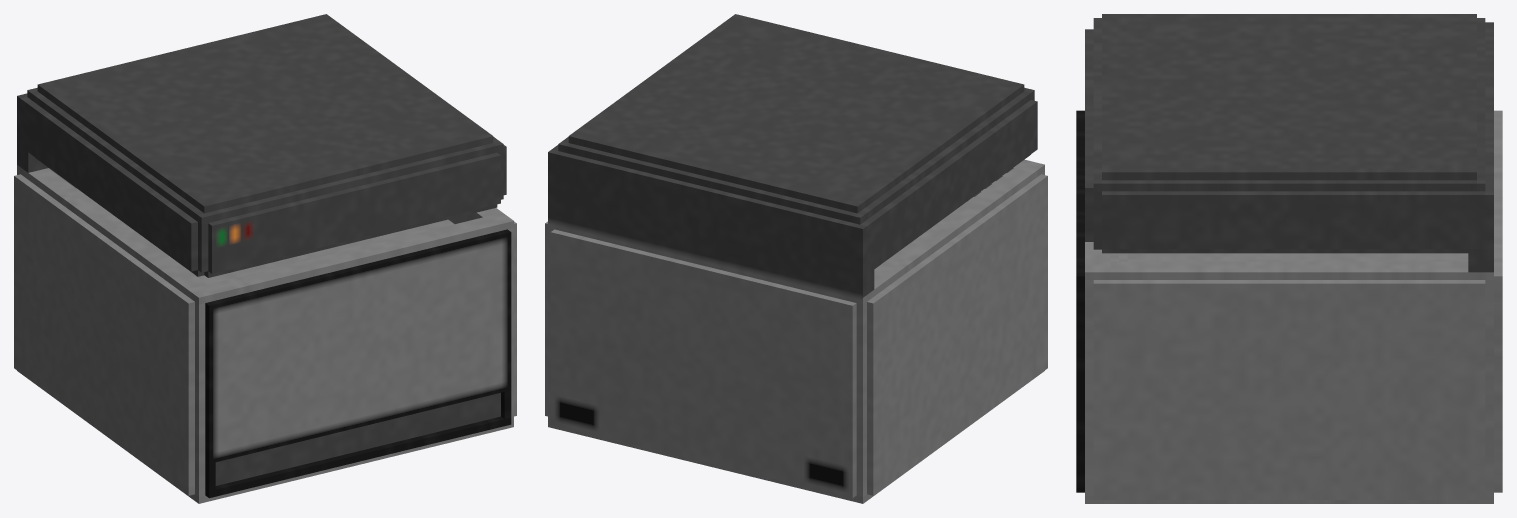
Rendered from MediumObject_Printer.fbx.
The picture shows the model from 3 angles, left to right: view 1: azimuth 30°, elevation 25°; view 2: azimuth 150°, elevation 25°; view 3: azimuth 270°, elevation 25°; orthographic projection. The views are drawn at different scales.
Visible parts, largest first — view 1: Printer; view 2: Printer; view 3: Printer.
Boxes of the visible parts, x1,y1,x2,y2 form: Printer: (14, 14, 516, 503); Printer: (545, 14, 1047, 503); Printer: (1076, 14, 1502, 503).
Bounding box in the file's own units: 50 × 42 × 50.
